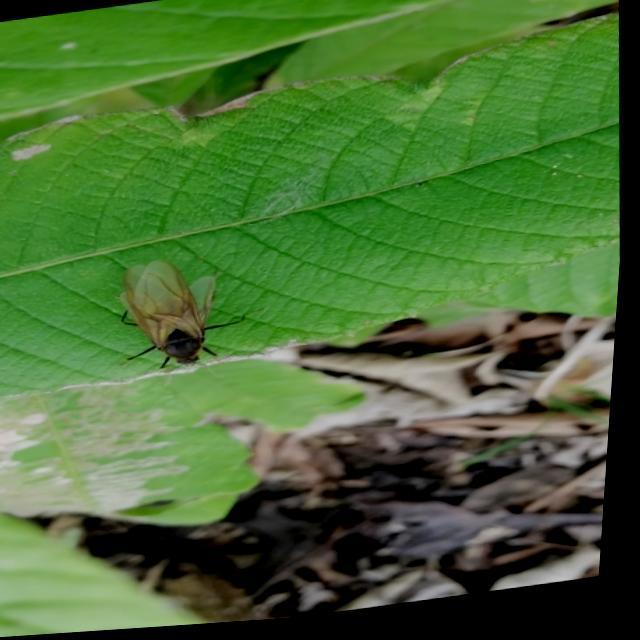Alive-Male-Alate: (111, 248, 276, 395)
